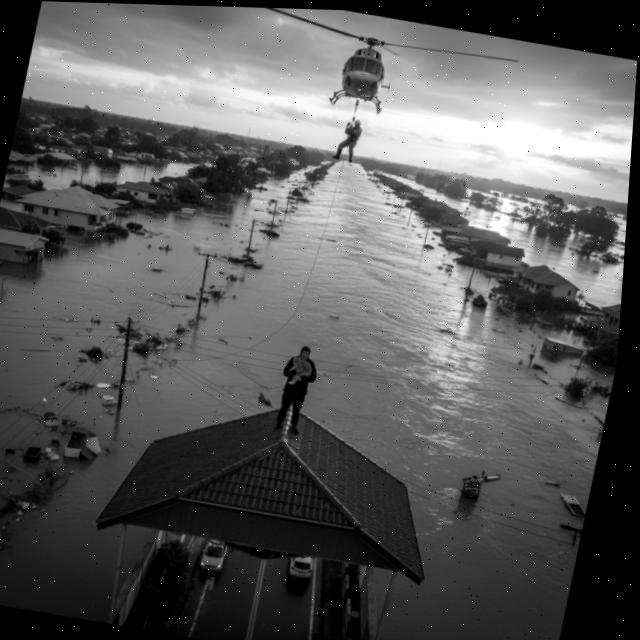cat: (283, 349, 323, 390)
civilian: (268, 334, 327, 441)
rescuer: (331, 107, 370, 167)
